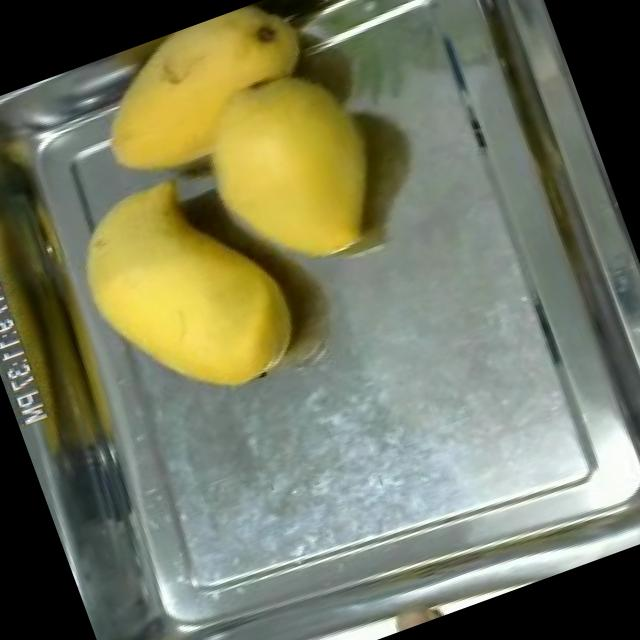fruit: (68, 0, 410, 332), (44, 137, 326, 437)
